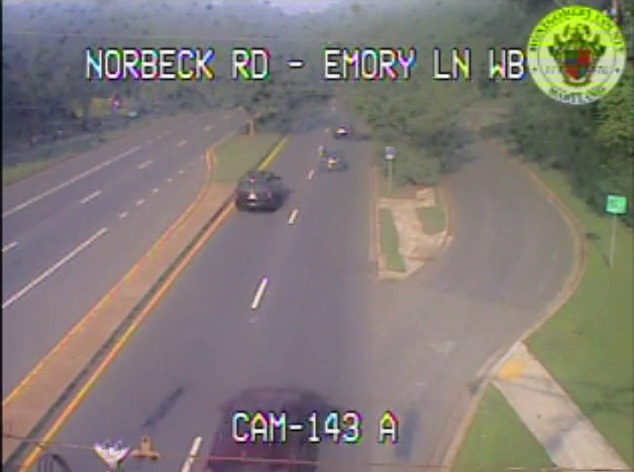car: (236, 172, 281, 209)
